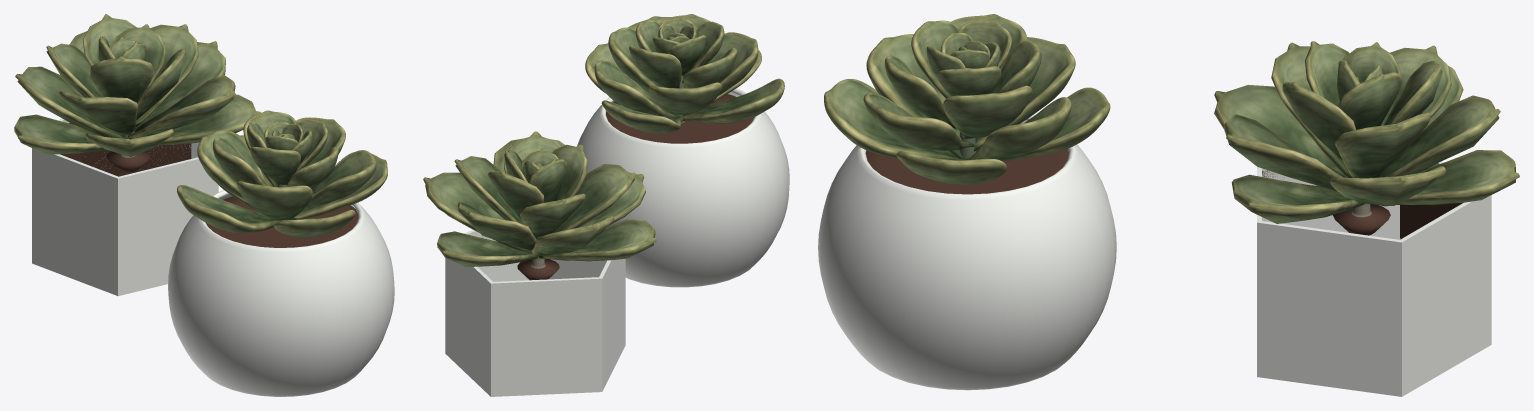
Rendered from lolasucculent.glb.
3 views of the same model, side by side, from view 1: azimuth 30°, elevation 25°; view 2: azimuth 150°, elevation 25°; view 3: azimuth 270°, elevation 25° (orthographic). The views are drawn at different scales.
Parts seen in each view (by area): view 1: pot; view 2: pot; view 3: pot.
Boxes of the visible parts, <box> form: pot: <box>14,14,394,396</box>; pot: <box>423,14,789,396</box>; pot: <box>818,14,1519,396</box>.
Bounding box in the file's own units: 0.0434 × 0.0446 × 0.091.
4 materials, 2 textured.
